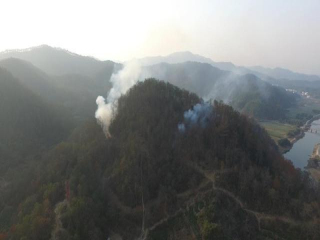smoke: (94, 57, 151, 139), (176, 80, 230, 136)
